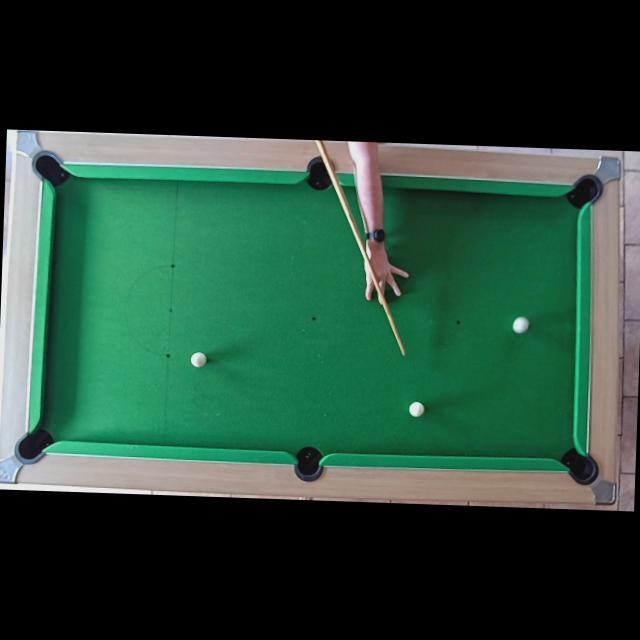Ball: (190, 352, 206, 368), (410, 402, 424, 417), (513, 318, 527, 332)
